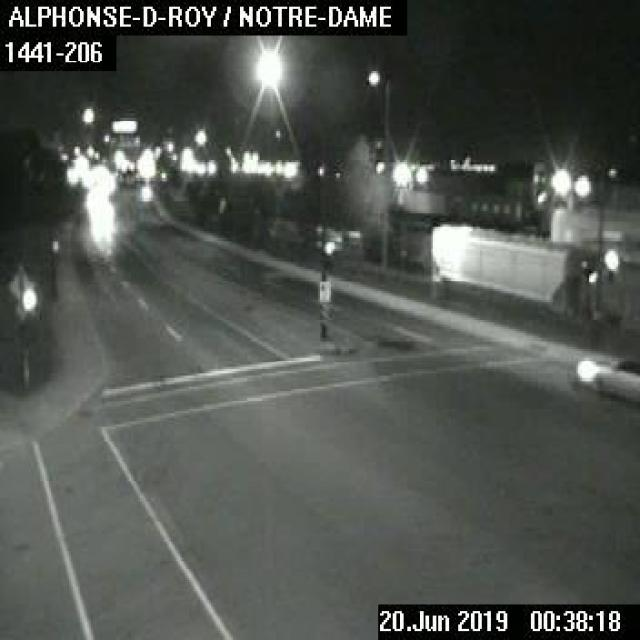vehicle: (573, 351, 638, 407)
